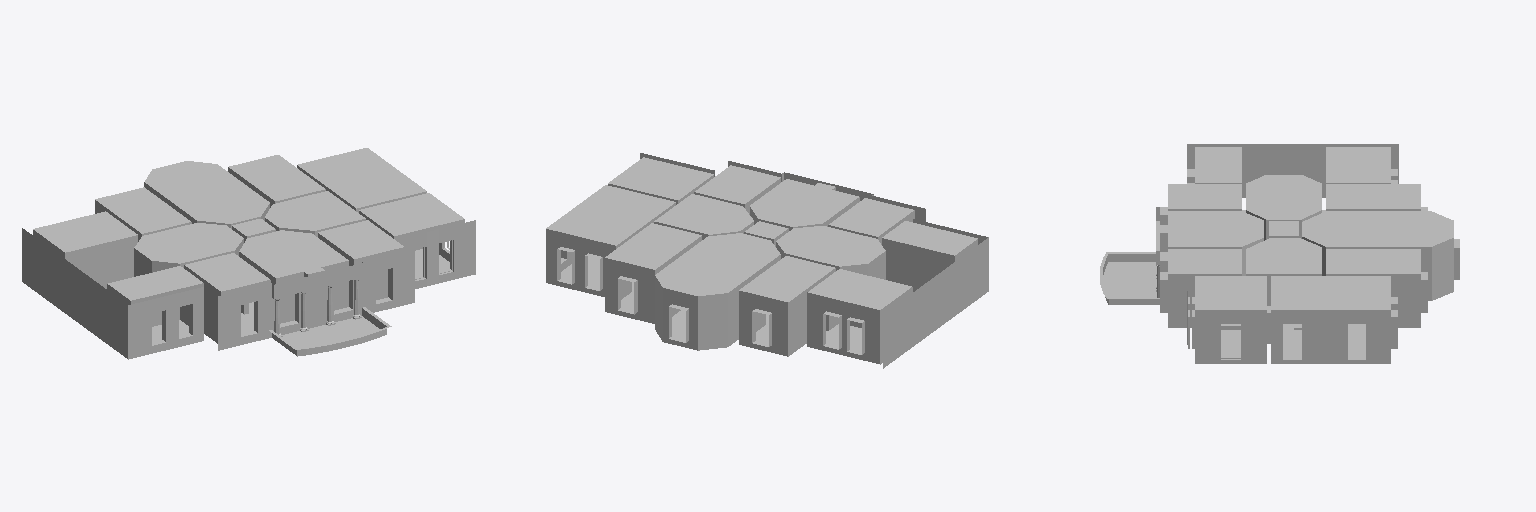
File: hauntedMansion.obj
The picture shows the model from 3 angles: view 1: azimuth 30°, elevation 25°; view 2: azimuth 150°, elevation 25°; view 3: azimuth 270°, elevation 25°; orthographic projection.
Visible parts, largest first — view 1: house-main, colonnade; view 2: house-main; view 3: house-main.
Boxes of the visible parts, <box> form: house-main: <box>22,148,475,359</box>; colonnade: <box>274,278,361,336</box>; house-main: <box>546,153,988,368</box>; house-main: <box>1100,144,1459,363</box>.
Bounding box in the file's own units: 30.87 × 4.61 × 27.67.